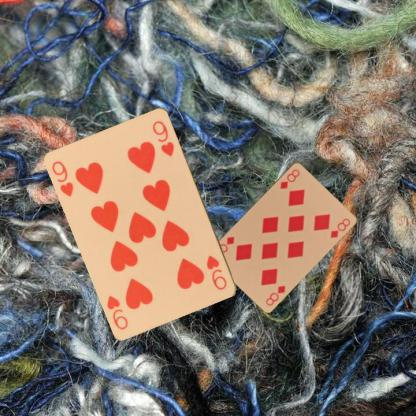8d: (277, 166, 301, 190), (264, 282, 286, 307)
9h: (49, 158, 75, 199), (204, 252, 228, 292)
